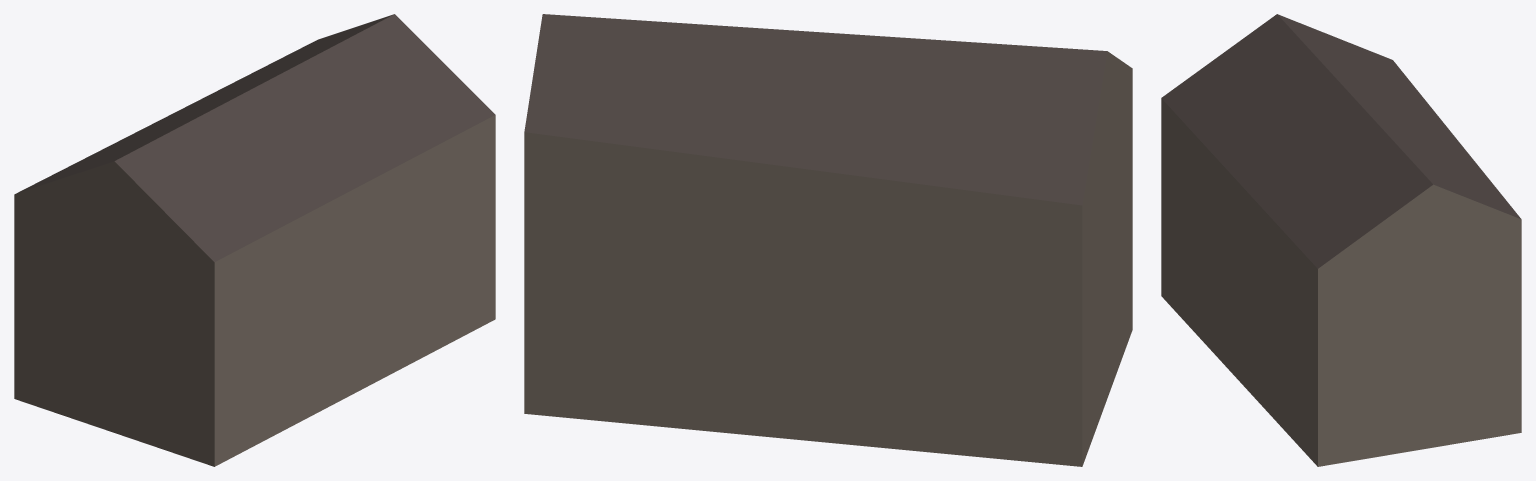
3 renders of one model, left to right at view 1: azimuth 30°, elevation 25°; view 2: azimuth 150°, elevation 25°; view 3: azimuth 270°, elevation 25°, orthographic. The views are drawn at different scales.
Parts seen in each view (by area): view 1: HP-w1198845817; view 2: HP-w1198845817; view 3: HP-w1198845817.
Part boxes in pixels (<box>): HP-w1198845817: <box>14,14,495,466</box>; HP-w1198845817: <box>524,14,1132,466</box>; HP-w1198845817: <box>1161,14,1521,466</box>.
Size of the model in its own units: 13.58 by 7.97 by 9.9.
